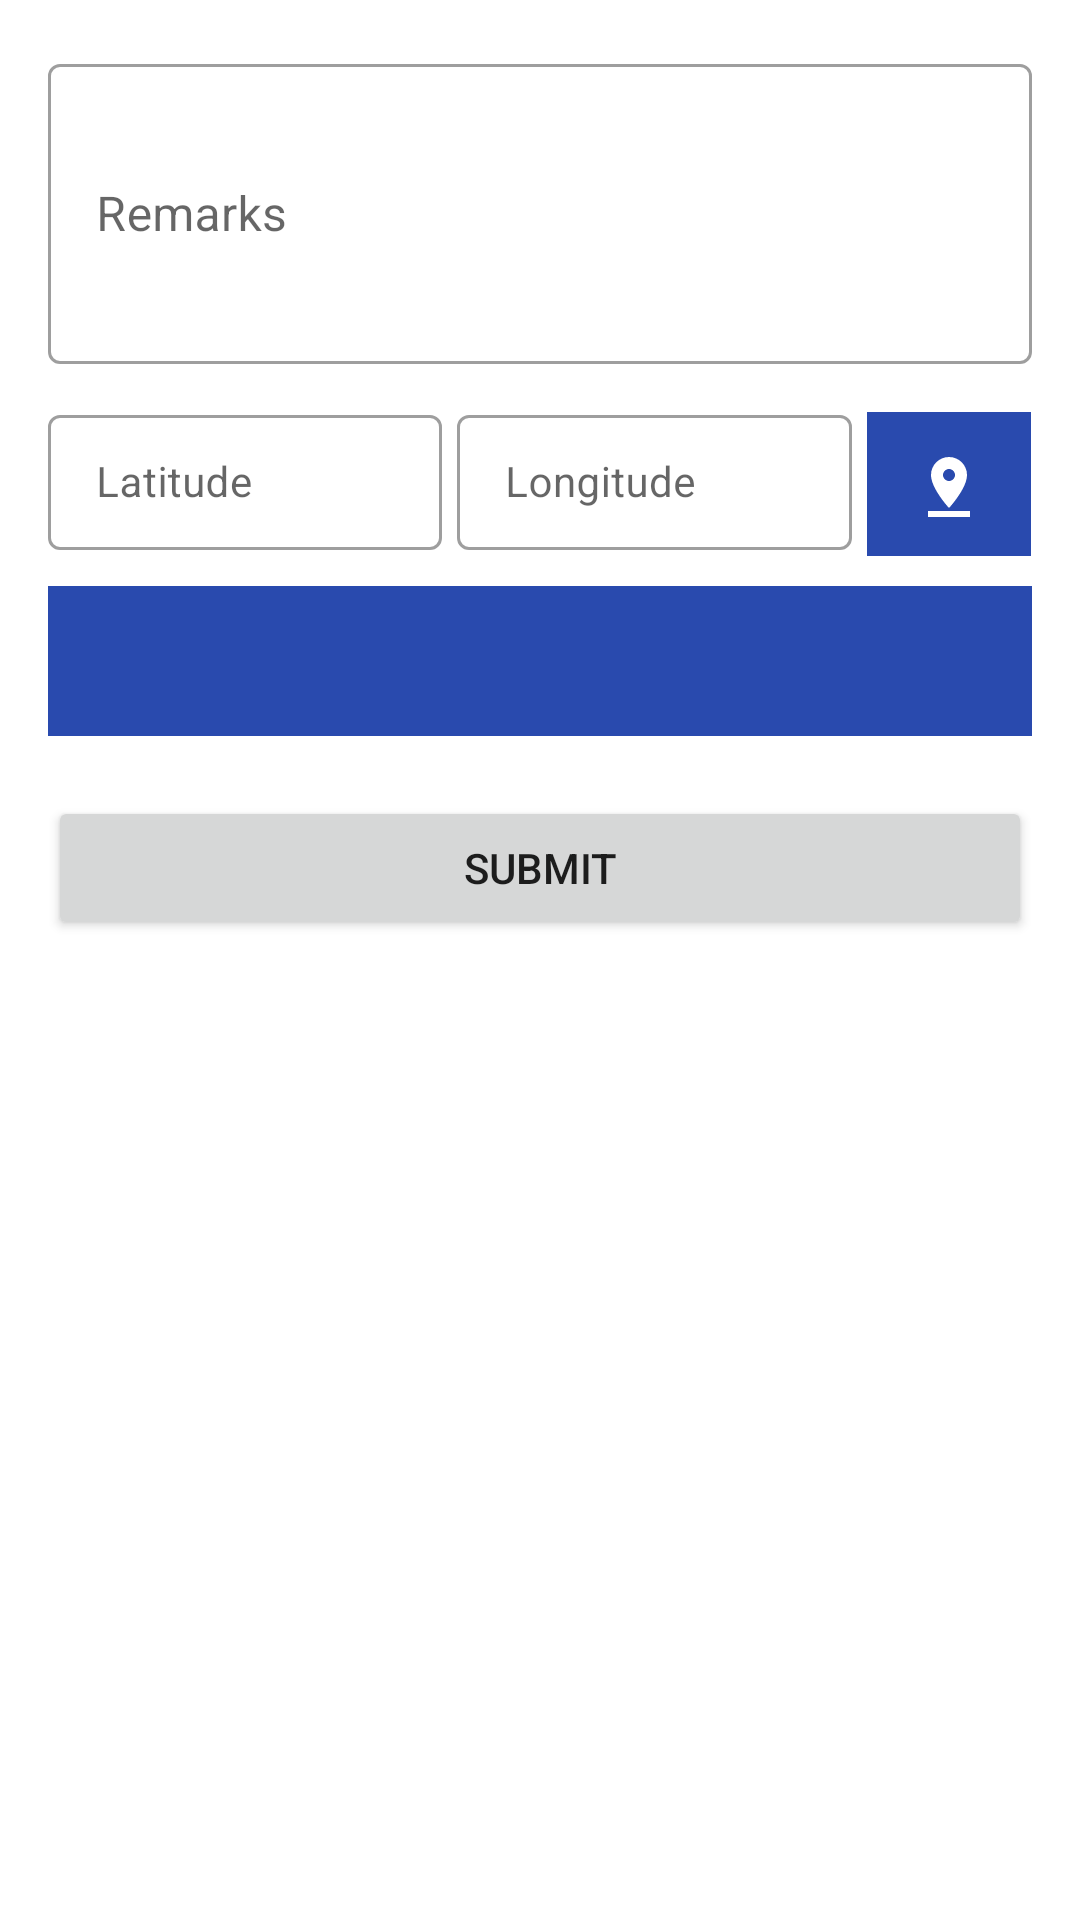

Icon bounding boxes for this 1080px×1920px phone screenshot, format [x1,y1,x2,y2]:
pin: [867,412,1031,556]
